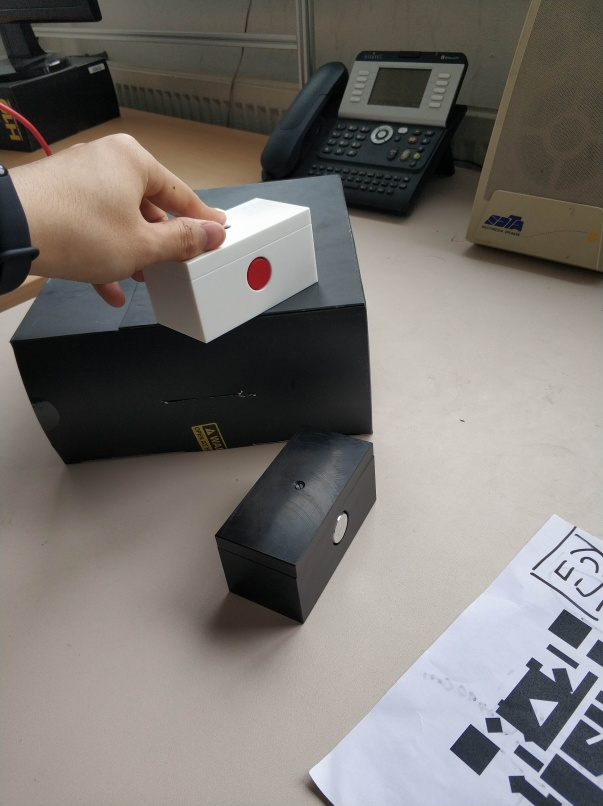black+black+silver: (209, 422, 377, 629)
white+white+red: (139, 194, 325, 347)
